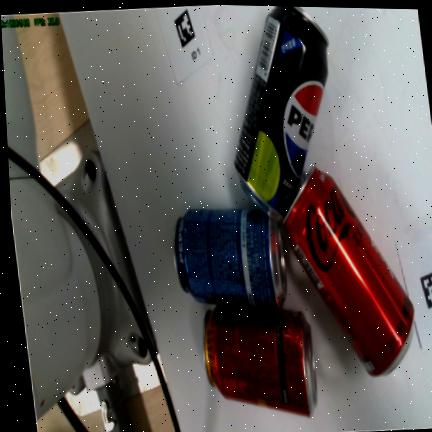can_coke_decaf: (202, 305, 316, 415)
can_coke_zero: (283, 165, 413, 375)
can_pepsi: (174, 209, 286, 310)
can_pepsi_zero: (234, 6, 327, 220)
